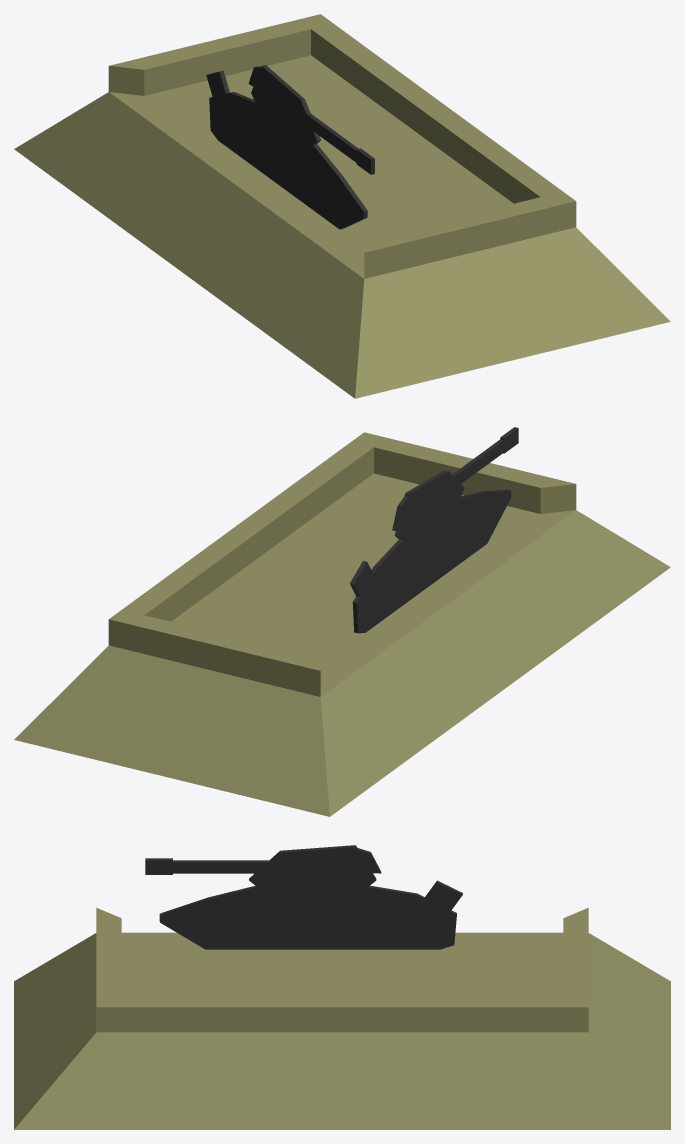
File: Dummy.fbx
3 views of the same model, one above another, from view 1: azimuth 30°, elevation 25°; view 2: azimuth 150°, elevation 25°; view 3: azimuth 270°, elevation 25° (orthographic). The views are drawn at different scales.
Visible parts, largest first — view 1: DummyBase, Dummy; view 2: DummyBase, Dummy; view 3: DummyBase, Dummy.
Part boxes in pixels (left/top/right/bottom): DummyBase: left=14, top=14, right=670, bottom=398; Dummy: left=206, top=65, right=374, bottom=229; DummyBase: left=14, top=432, right=670, bottom=816; Dummy: left=350, top=427, right=518, bottom=633; DummyBase: left=14, top=907, right=670, bottom=1129; Dummy: left=145, top=845, right=462, bottom=949.
Size of the model in its own units: 8.71 by 4.81 by 16.3.
